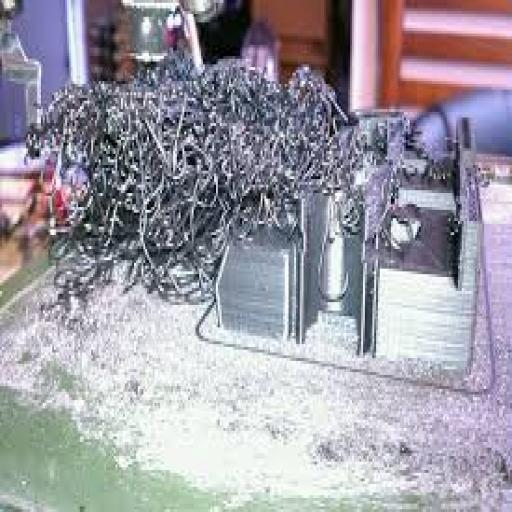spaghetti: (43, 52, 384, 300)
